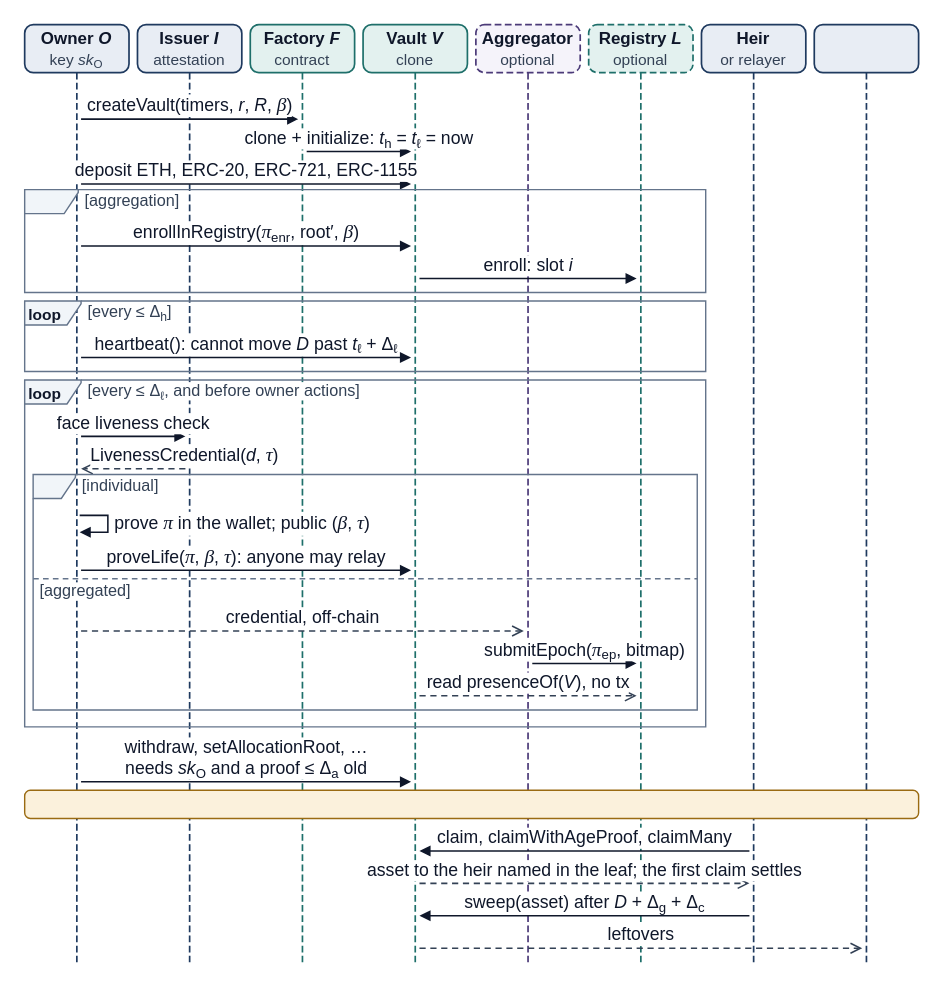
Some shapes in this 945 by 988 pixel diagram are drawn without their labels. Here are the shapes that lost their labels. From the top down, the box of each, then its label:
(23, 188, 706, 293): opt
(813, 23, 919, 962): Residuary R
(32, 473, 697, 710): alt
(23, 789, 919, 819): owner stops: Alive → Grace ( t > D ) → Claimable ( t > D + Δ g ), by time alone
